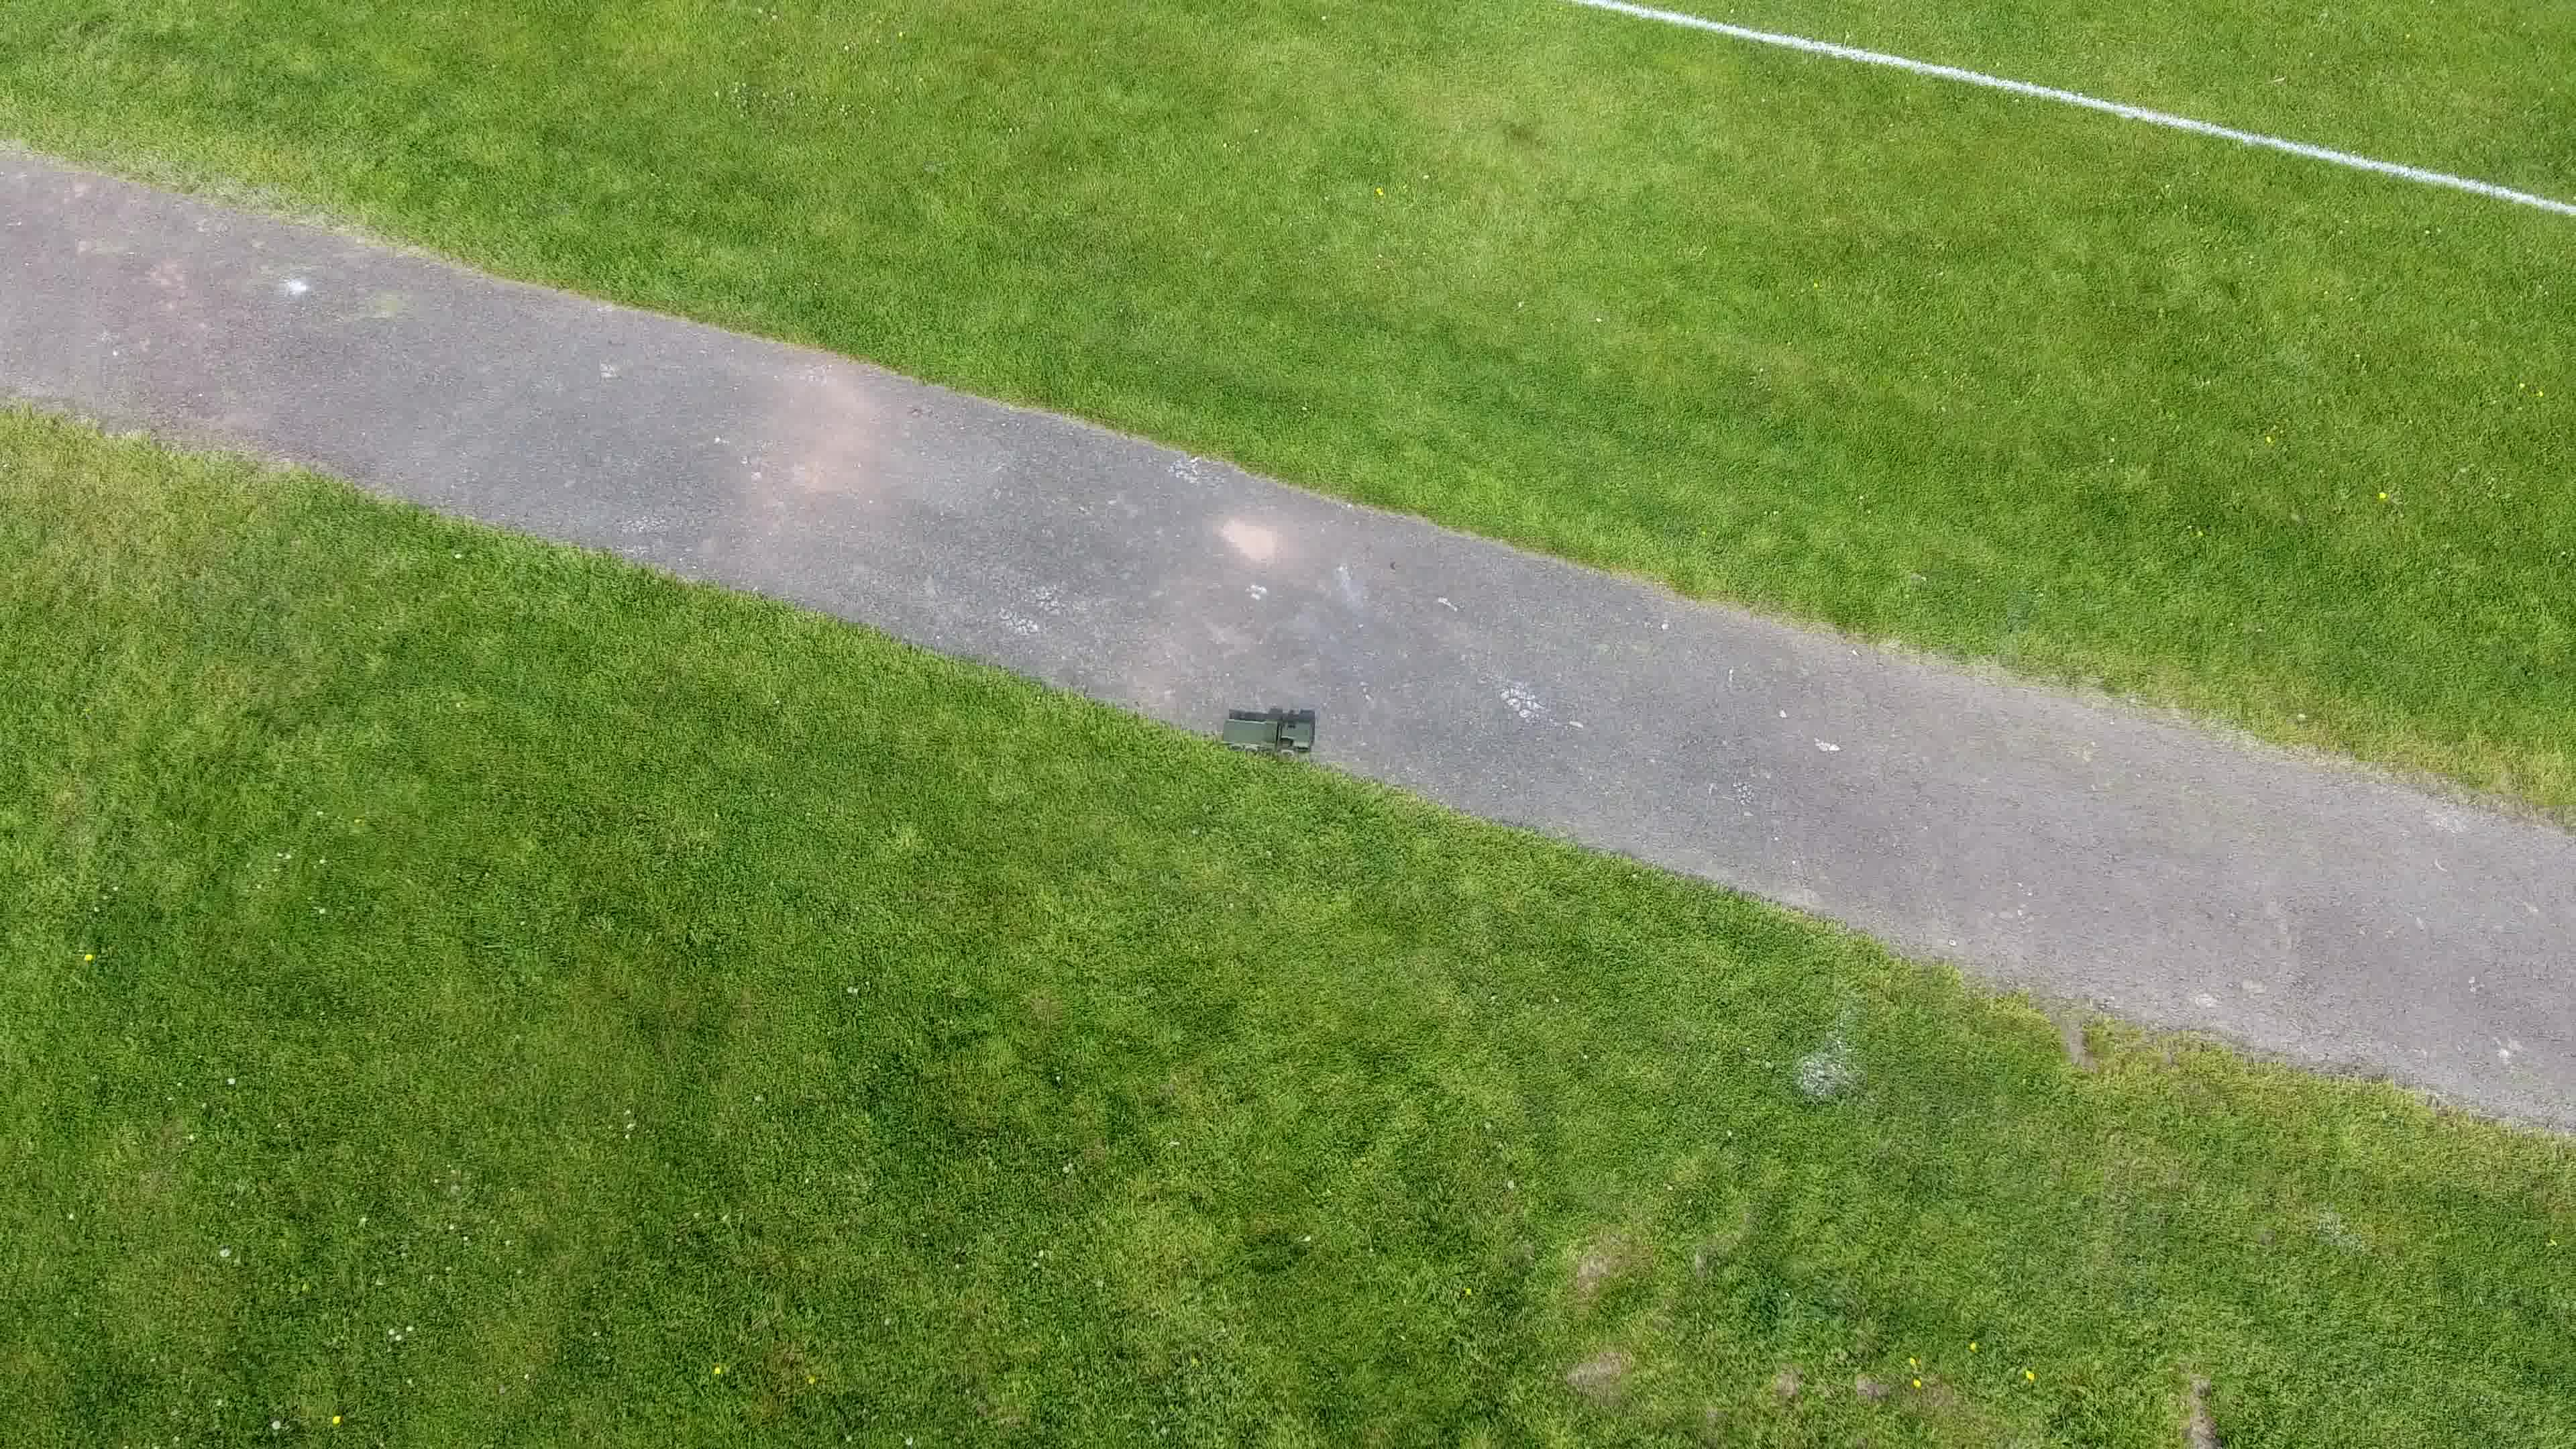transporter9: (1217, 709, 1318, 759)
